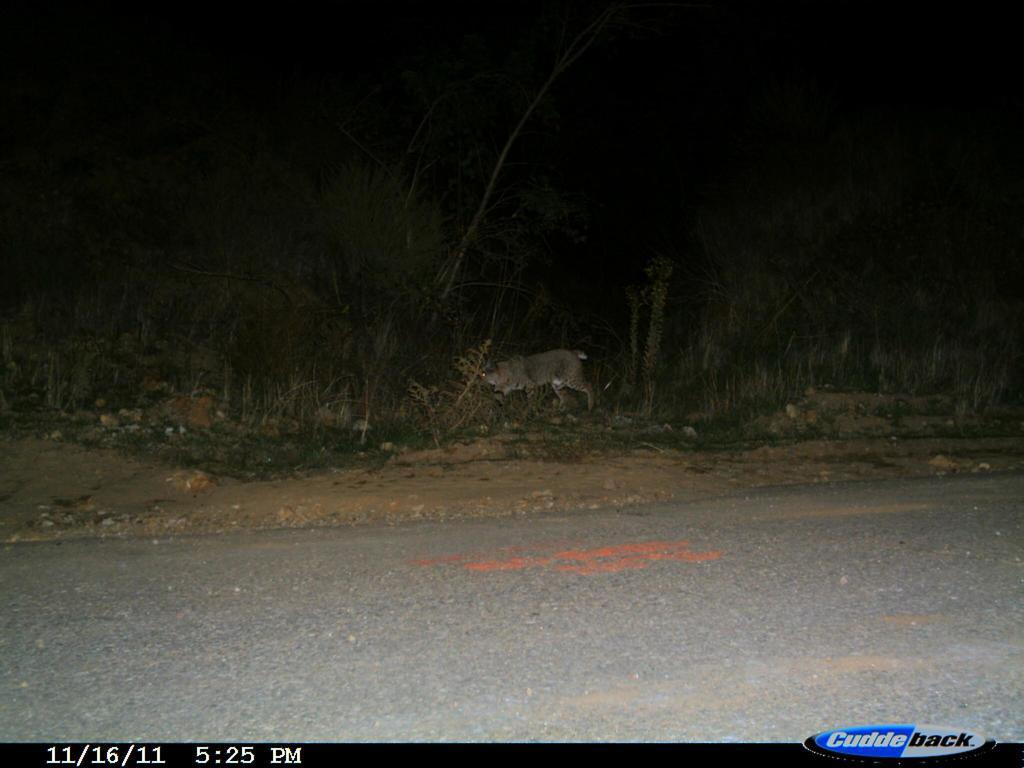bobcat: (466, 342, 600, 425)
